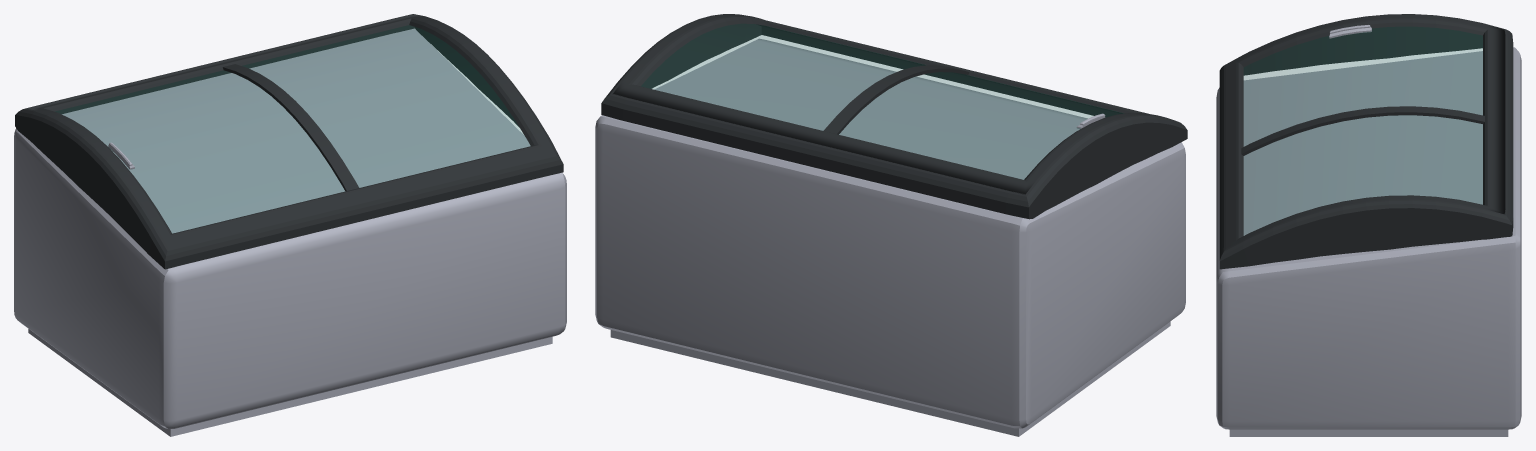
Rendered from SM_fridge.fbx.
3 views of the same model, side by side, from view 1: azimuth 30°, elevation 25°; view 2: azimuth 150°, elevation 25°; view 3: azimuth 270°, elevation 25° (orthographic). The views are drawn at different scales.
Parts seen in each view (by area): view 1: fridge; view 2: fridge; view 3: fridge.
Part boxes in pixels (<box>): fridge: <box>14,14,566,436</box>; fridge: <box>595,14,1187,436</box>; fridge: <box>1216,14,1521,436</box>.
Size of the model in its own units: 180 by 103 by 120.
